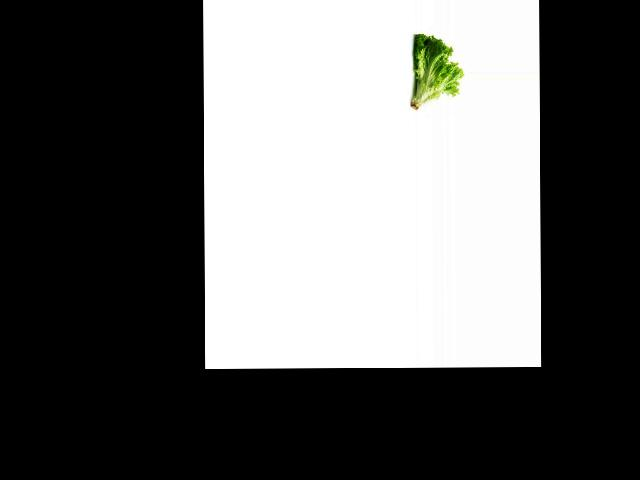lettuce: (409, 33, 464, 111)
